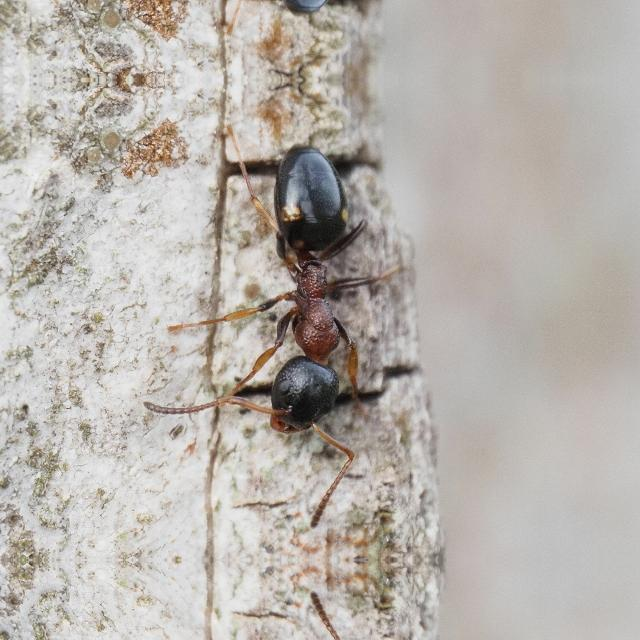Dolichoderus: (202, 103, 408, 461)
